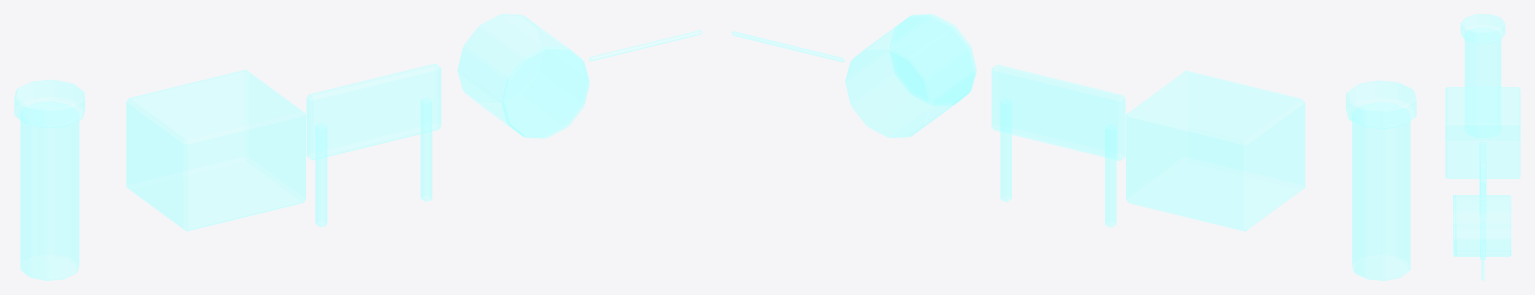
The model's file is GH_Building_TierKit.fbx.
3 renders of one model, left to right at view 1: azimuth 30°, elevation 25°; view 2: azimuth 150°, elevation 25°; view 3: azimuth 270°, elevation 25°, orthographic. The views are drawn at different scales.
Parts seen in each view (by area): view 1: SM_addon_wing, SM_addon_chimney, SM_addon_tank, SM_addon_sign, SM_addon_lights; view 2: SM_addon_wing, SM_addon_chimney, SM_addon_tank, SM_addon_sign, SM_addon_lights; view 3: SM_addon_wing, SM_addon_chimney, SM_addon_tank, SM_addon_sign, SM_addon_lights.
Part boxes in pixels (x1,y1,x2,y2): SM_addon_wing: (126, 69, 305, 231); SM_addon_chimney: (14, 79, 84, 280); SM_addon_tank: (457, 14, 589, 138); SM_addon_sign: (306, 63, 441, 227); SM_addon_lights: (588, 30, 702, 61); SM_addon_wing: (1126, 70, 1305, 231); SM_addon_chimney: (1346, 80, 1416, 280); SM_addon_tank: (845, 14, 976, 137); SM_addon_sign: (991, 64, 1125, 227); SM_addon_lights: (731, 31, 844, 62); SM_addon_wing: (1445, 87, 1520, 178); SM_addon_chimney: (1460, 14, 1505, 137); SM_addon_tank: (1453, 194, 1511, 256); SM_addon_sign: (1479, 142, 1486, 259); SM_addon_lights: (1481, 245, 1484, 280).
Size of the model in its own units: 7.79 by 2.16 by 1.2.
